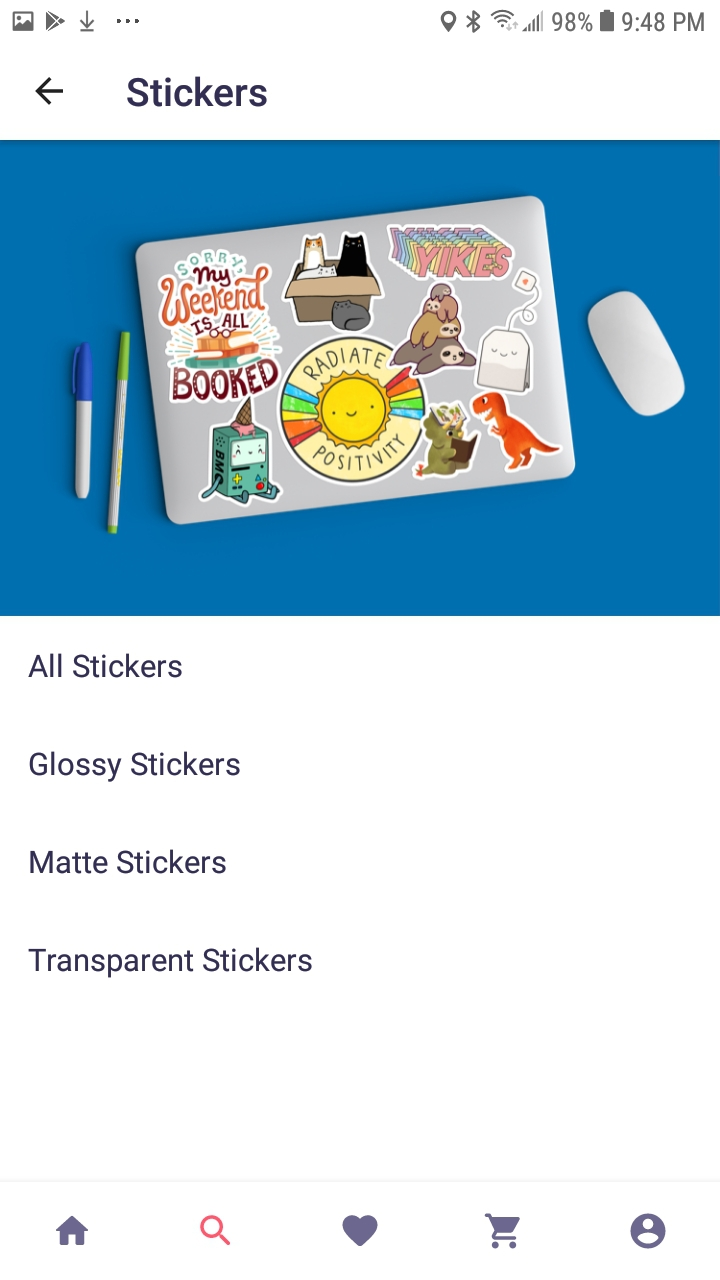Icon: (484, 1213, 521, 1250), (630, 1213, 666, 1249), (342, 1214, 379, 1247), (200, 1214, 231, 1246), (57, 1216, 90, 1246), (36, 78, 65, 106)
Image: (1, 141, 720, 617)
Text: (29, 947, 313, 979), (30, 750, 241, 783), (30, 849, 227, 875), (127, 77, 268, 108), (28, 653, 183, 679)
UpperTaskBar: (1, 1, 720, 35)
